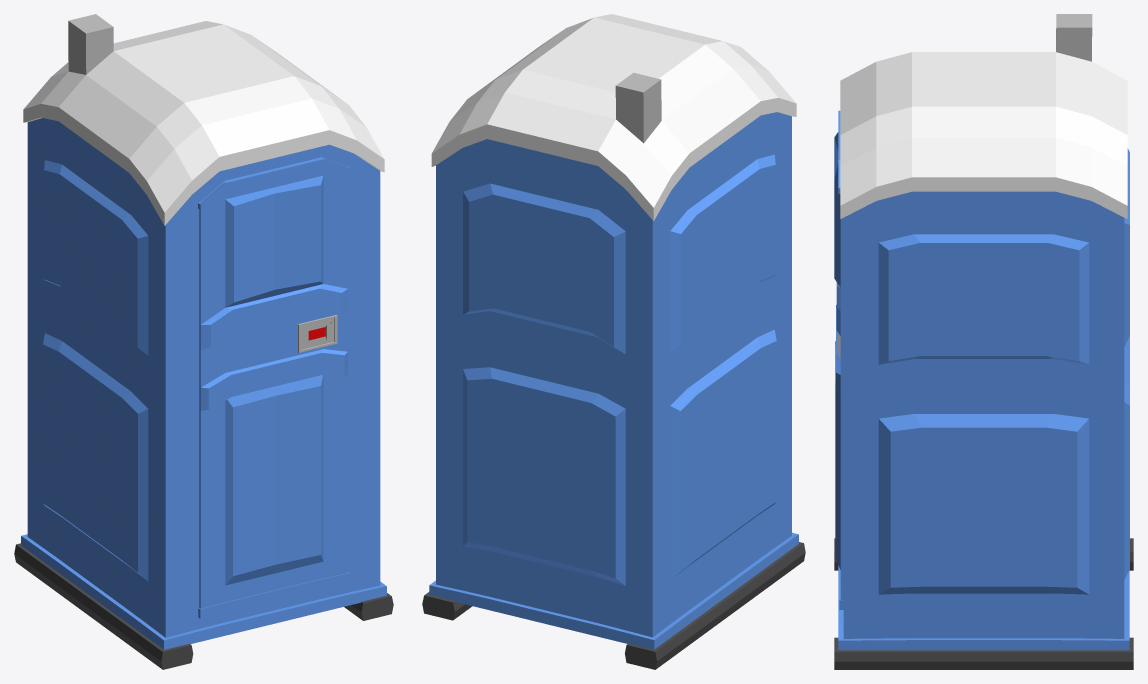
The model's file is prop-portaloo-Du9AdNNX.glb.
3 views of the same model, side by side, from view 1: azimuth 30°, elevation 25°; view 2: azimuth 150°, elevation 25°; view 3: azimuth 270°, elevation 25° (orthographic).
Parts seen in each view (by area): view 1: portaloo; view 2: portaloo; view 3: portaloo.
Boxes of the visible parts, box(x1,y1,x2,y2) form: portaloo: box(14, 14, 393, 669); portaloo: box(422, 14, 805, 669); portaloo: box(834, 14, 1133, 669).
Bounding box in the file's own units: 1.41 × 3.19 × 1.55.
